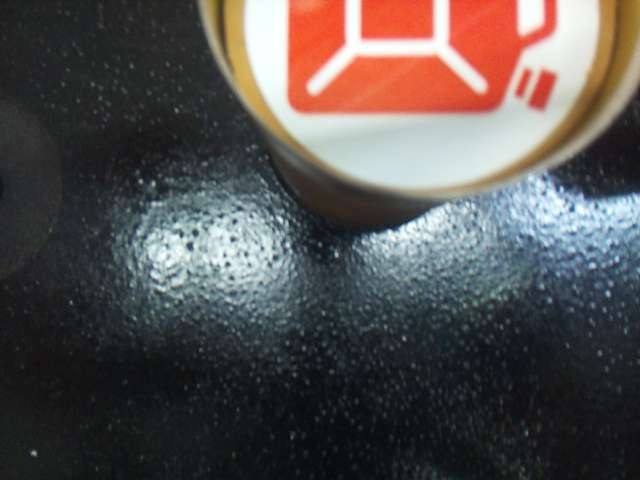gasoline: (279, 2, 567, 128)
